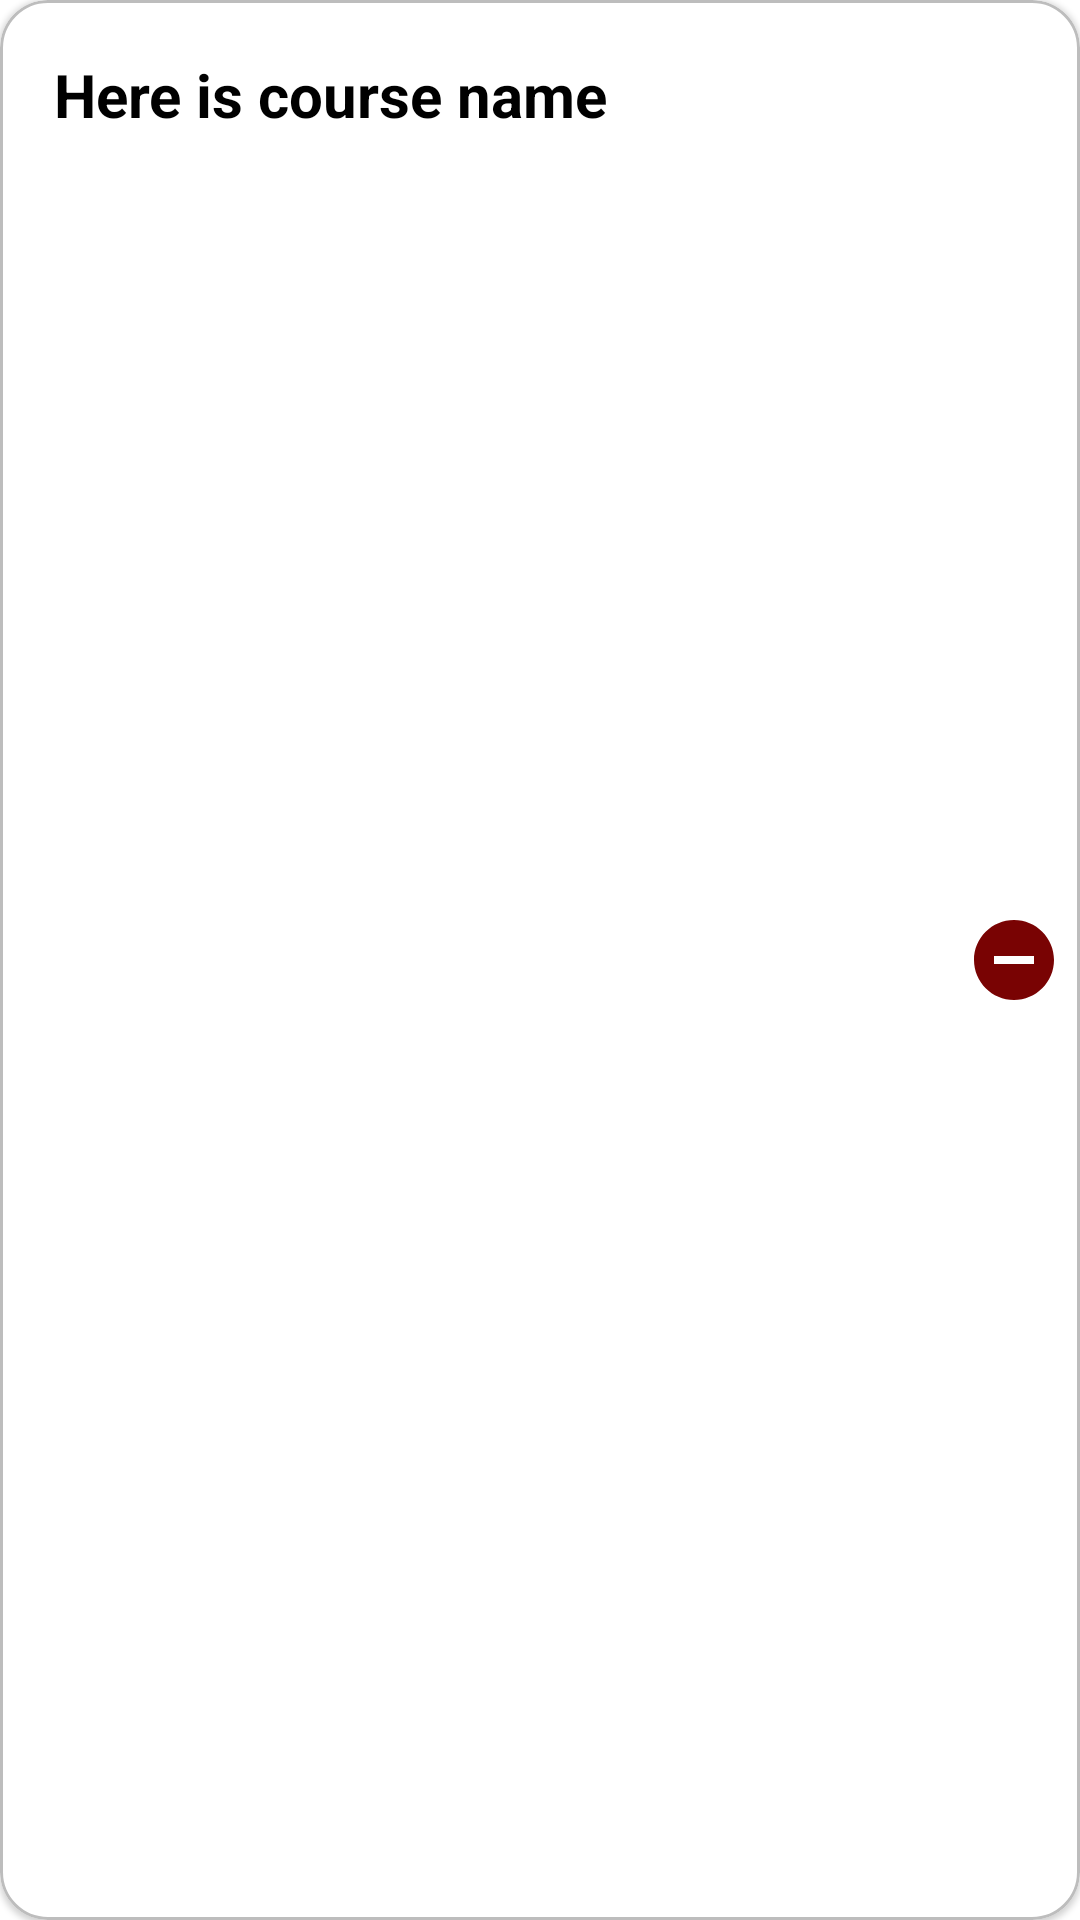

Where icons sit on this 1080 x 1920 app screen, as (x1, y1, x2, y2):
delete: (974, 920, 1054, 1000)
